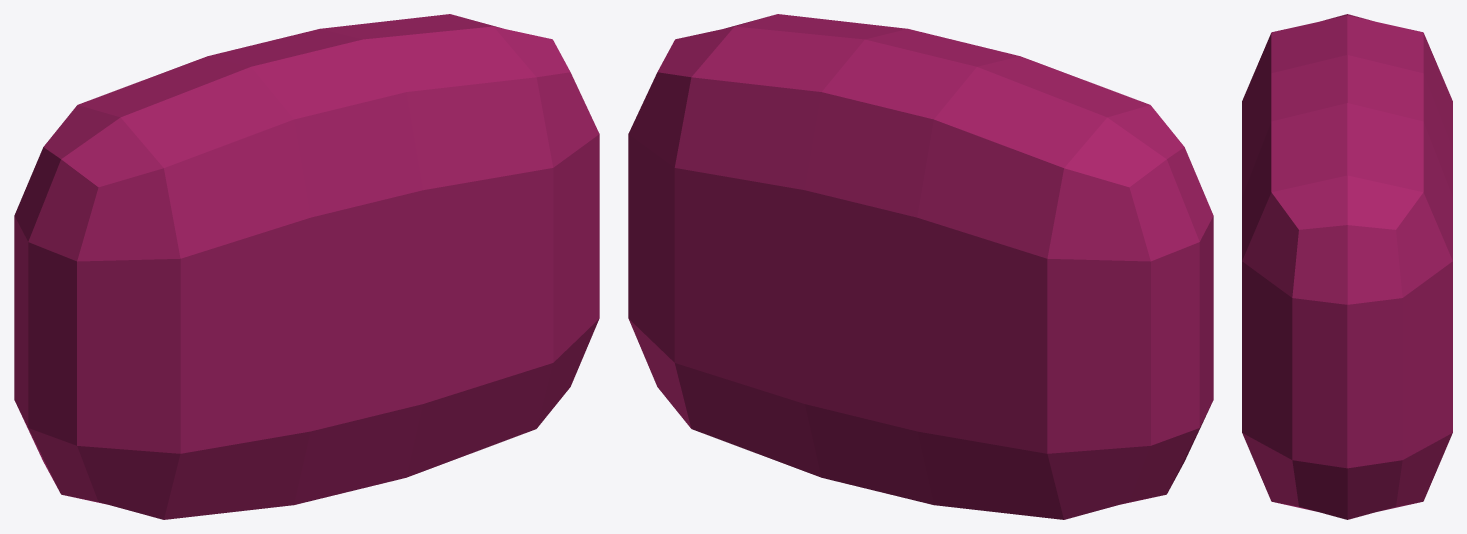
Rendered from kussen4.fbx.
3 views of the same model, side by side, from view 1: azimuth 30°, elevation 25°; view 2: azimuth 150°, elevation 25°; view 3: azimuth 270°, elevation 25° (orthographic). The views are drawn at different scales.
Visible parts, largest first — view 1: kussen4; view 2: kussen4; view 3: kussen4.
Part boxes in pixels (x1=…): kussen4: x1=14, y1=14, x2=599, y2=519; kussen4: x1=628, y1=14, x2=1213, y2=519; kussen4: x1=1242, y1=14, x2=1452, y2=519.
Bounding box in the file's own units: 0.4487 × 0.3289 × 0.1671.
